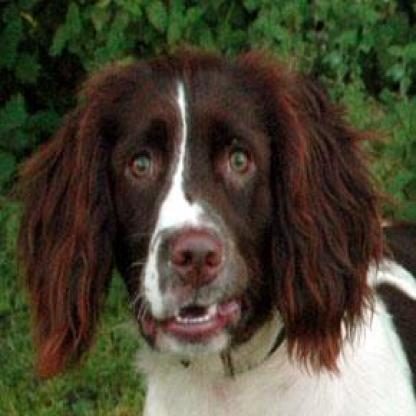English_setter: (20, 42, 383, 408)
